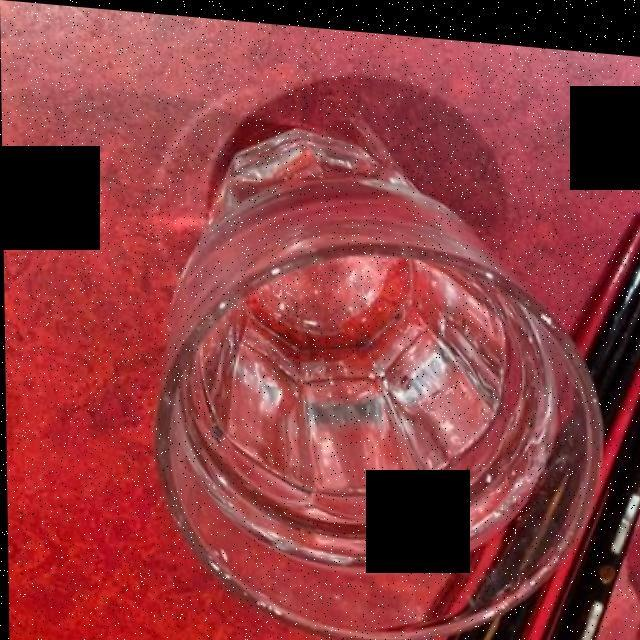water: (173, 114, 505, 511)
